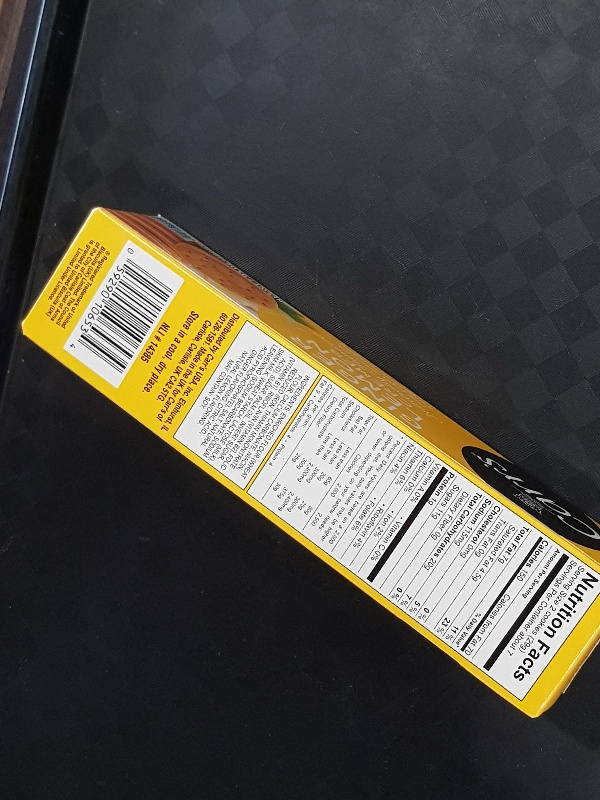Carr's Ginger Lemon Cremes: (18, 204, 600, 719)
